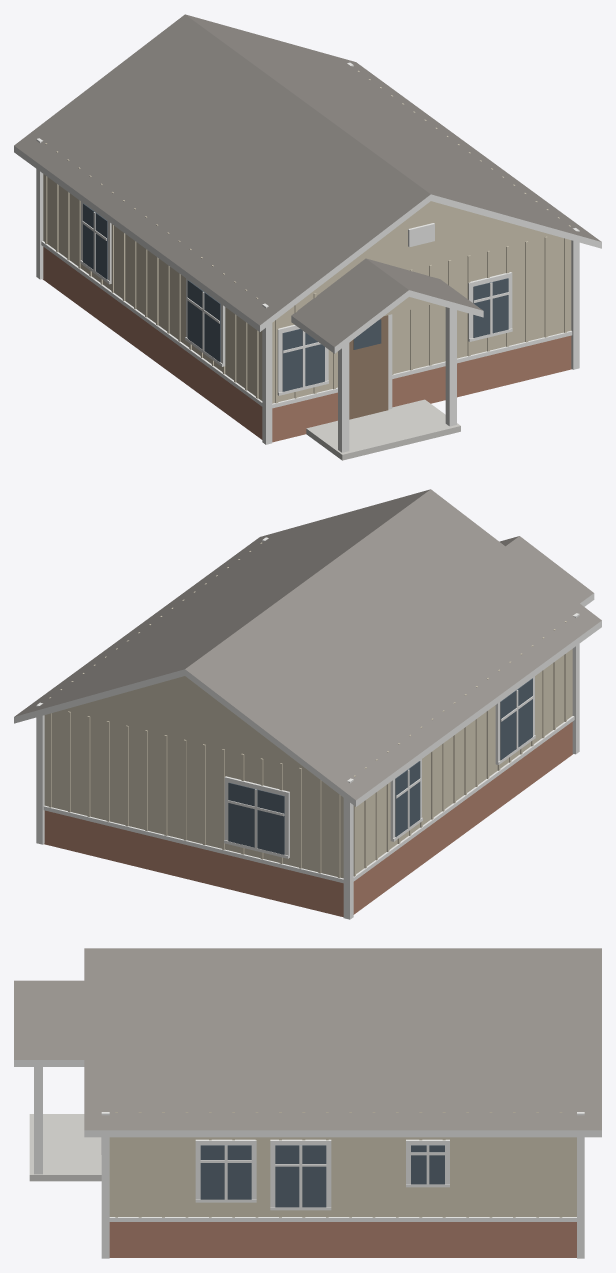
The model's file is peach-craftsman.glb.
3 renders of one model, top to bottom at view 1: azimuth 30°, elevation 25°; view 2: azimuth 150°, elevation 25°; view 3: azimuth 270°, elevation 25°, orthographic. The views are drawn at different scales.
Parts seen in each view (by area): view 1: The Peach (craftsman); view 2: The Peach (craftsman); view 3: The Peach (craftsman).
Boxes of the visible parts, x1,y1,x2,y2 form: The Peach (craftsman): (14, 14, 601, 460); The Peach (craftsman): (14, 489, 601, 919); The Peach (craftsman): (14, 948, 601, 1258).
Bounding box in the file's own units: 7.47 × 4.57 × 10.56.
